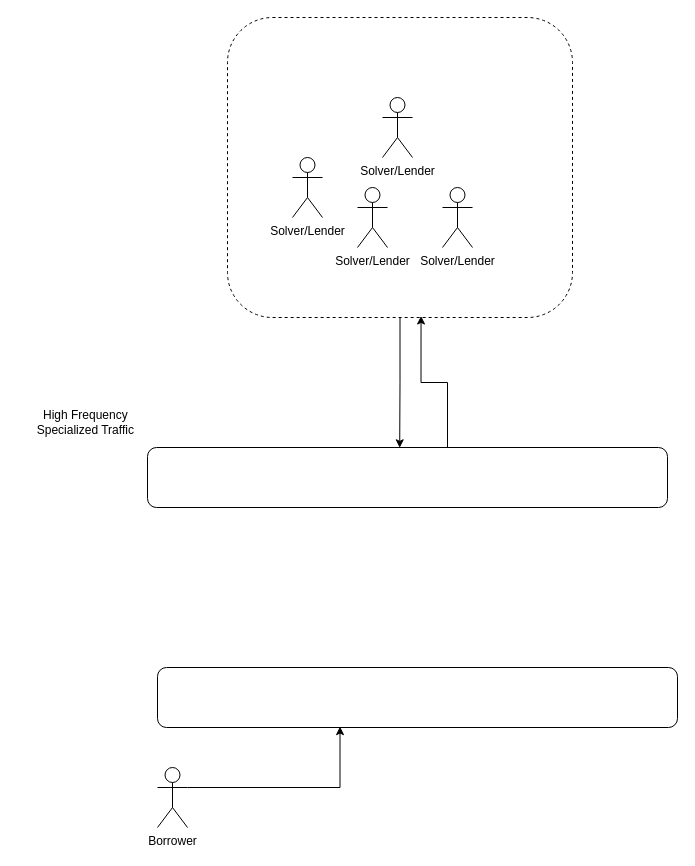
Image size: 695x866. Some labels were removed from this diagram. The centre of each missing label's shape, as x and y in pixels:
"ETH Sepolia" goes at point (417, 697).
"Rollup" goes at point (407, 477).
